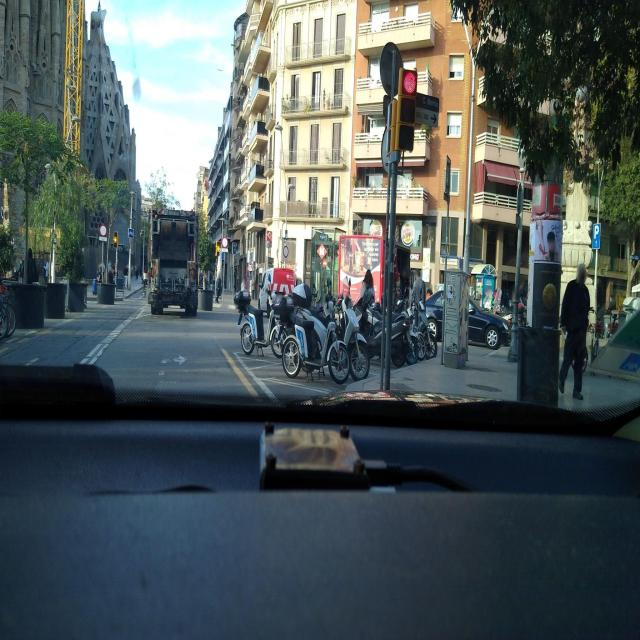bike: (280, 300, 348, 384), (322, 288, 372, 382), (240, 297, 288, 359), (379, 308, 420, 367), (412, 309, 438, 358), (0, 282, 16, 341)
car: (254, 267, 296, 326), (466, 296, 512, 349)
